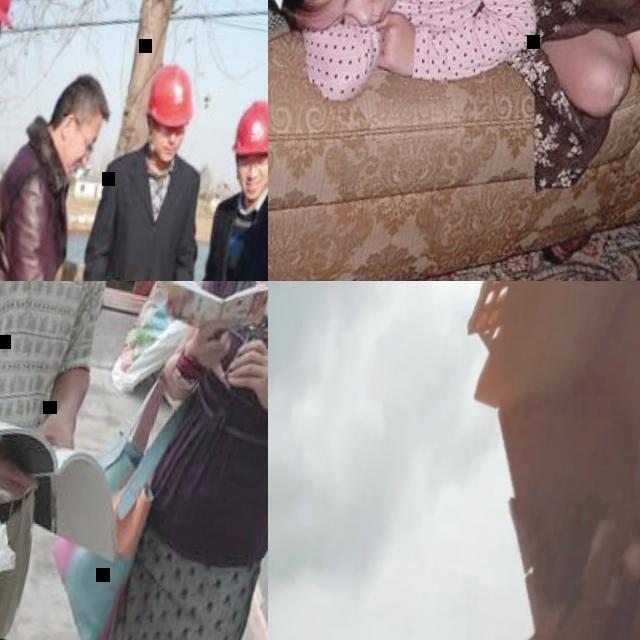Weapon: (0, 20, 276, 281), (280, 0, 561, 136), (5, 38, 117, 258)
objects: (119, 57, 221, 206), (224, 52, 268, 224)
